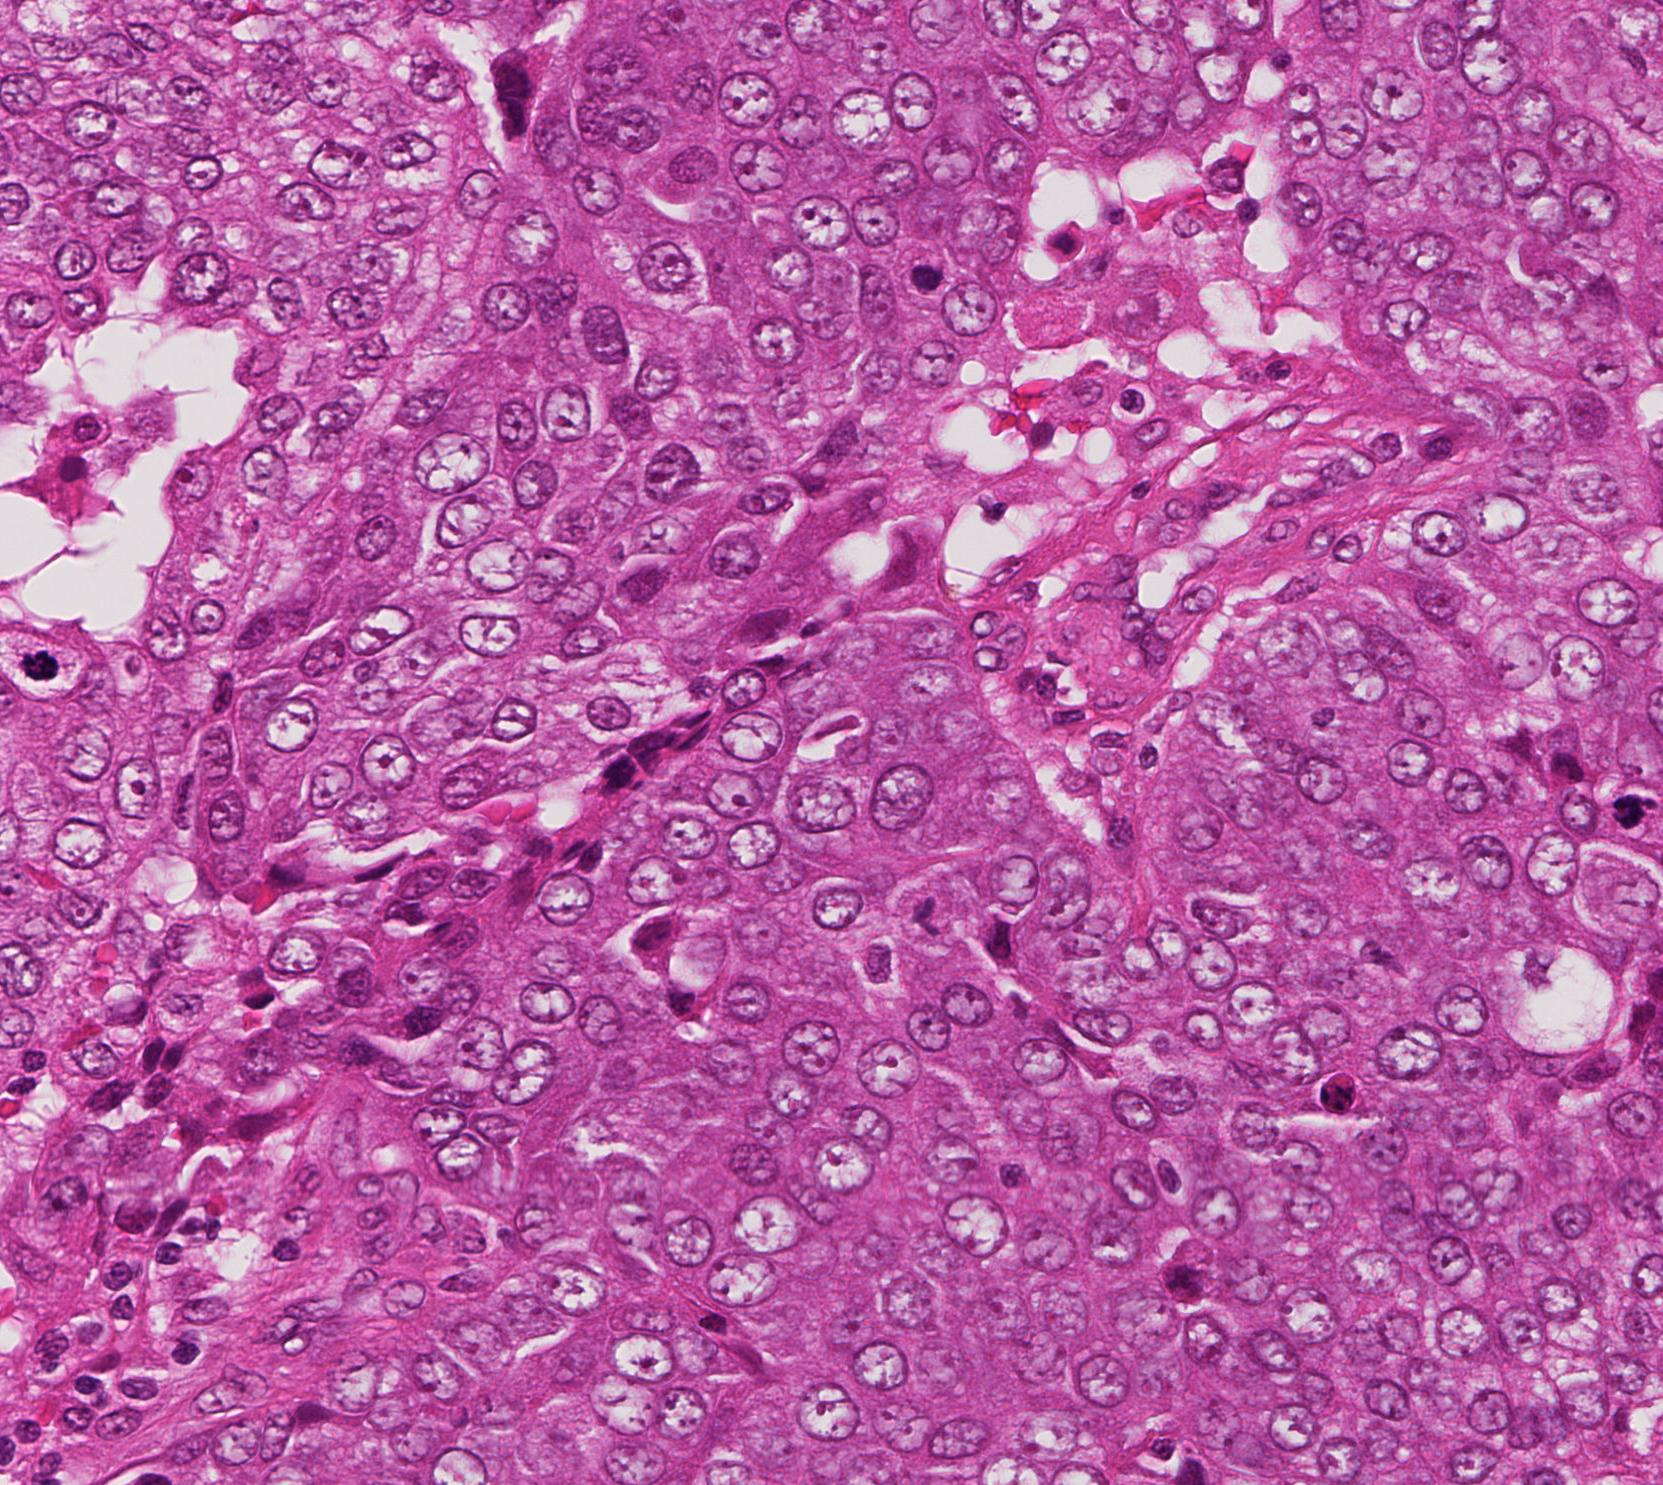mitosis: (897, 235, 958, 295), (17, 641, 77, 701), (1153, 1248, 1211, 1309)
